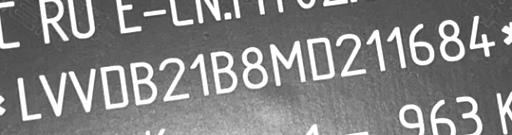letter: (267, 38, 309, 87), (156, 57, 192, 104), (334, 32, 368, 79), (98, 64, 130, 111), (66, 67, 98, 114), (36, 71, 68, 117), (304, 36, 336, 81), (126, 61, 158, 106), (467, 12, 497, 59), (13, 76, 43, 122), (436, 18, 466, 63), (406, 21, 436, 66), (239, 45, 269, 90), (209, 50, 239, 95), (362, 27, 388, 74), (188, 51, 212, 98), (386, 24, 408, 71)
